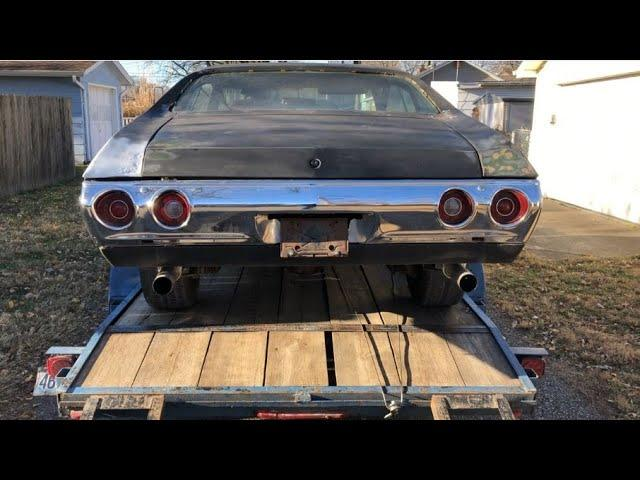chevelle-1972: (82, 64, 541, 308)
